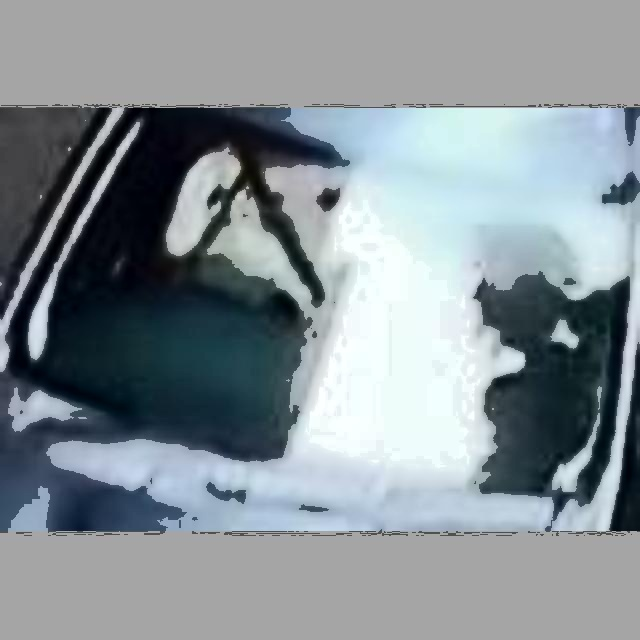pakai: (144, 156, 366, 382)
